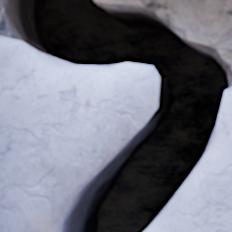broken_brick: (0, 35, 158, 231), (147, 86, 231, 231)
crack: (0, 0, 231, 231)
